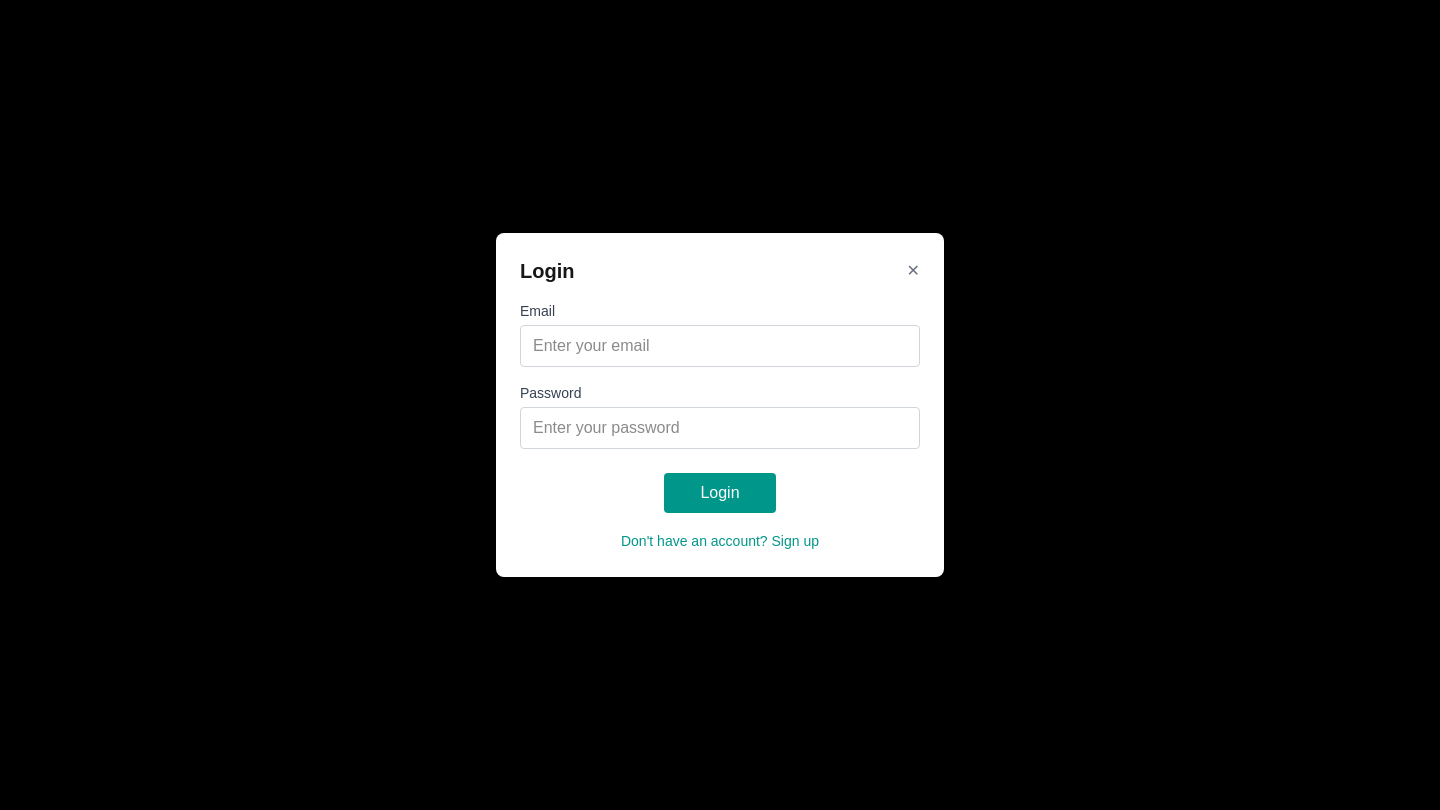
AuthModal › Rendering › should render signup form when toggled
Click the button "Don't have an account? Sign up" at (720, 541), box [621,531,819,551]
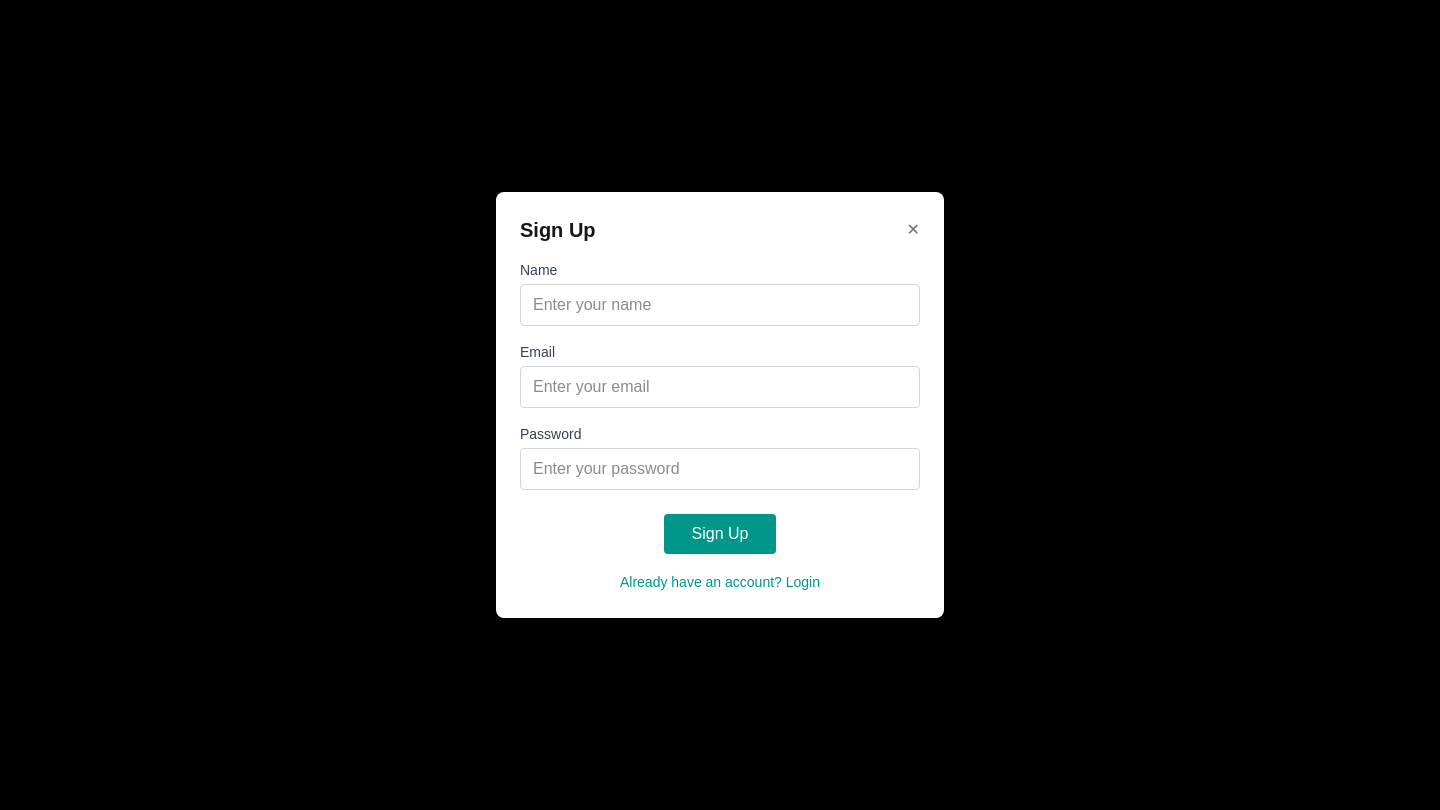
Expected: the field with placeholder "Enter your email" is shown, [520,366,920,408]
Expected: the heading "Sign Up" is shown, [520,216,596,244]
Expected: the field with placeholder "Enter your name" is shown, [520,284,920,326]
